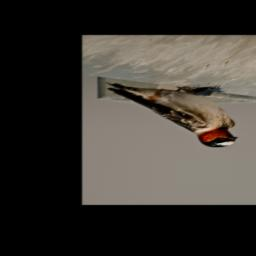Swallow: (104, 82, 239, 149)
